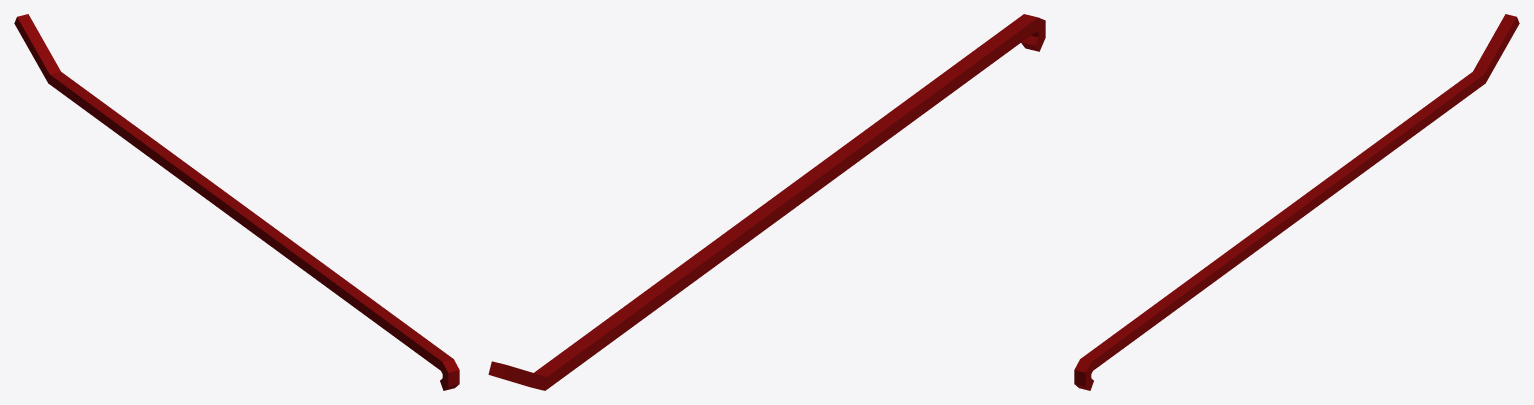
File: original-22.obj
3 renders of one model, left to right at view 1: azimuth 30°, elevation 25°; view 2: azimuth 150°, elevation 25°; view 3: azimuth 330°, elevation 25°, orthographic. The views are drawn at different scales.
Parts seen in each view (by area): view 1: mesh20/mesh20-geometry#mesh20-geometry; view 2: mesh20/mesh20-geometry#mesh20-geometry; view 3: mesh20/mesh20-geometry#mesh20-geometry.
Boxes of the visible parts, bbox=[...] form: mesh20/mesh20-geometry#mesh20-geometry: bbox=[14, 14, 459, 390]; mesh20/mesh20-geometry#mesh20-geometry: bbox=[488, 14, 1045, 390]; mesh20/mesh20-geometry#mesh20-geometry: bbox=[1074, 14, 1519, 390].
Bounding box in the file's own units: 0.00819 × 0.0426 × 0.5403.
